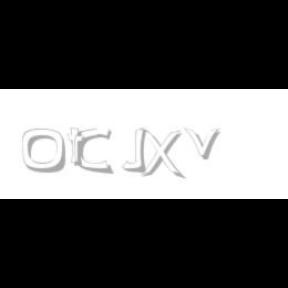C: (74, 128, 112, 174)
J: (122, 128, 146, 172)
O: (22, 128, 66, 174)
X: (139, 128, 183, 180)
t: (68, 128, 90, 168)
v: (184, 128, 224, 160)
